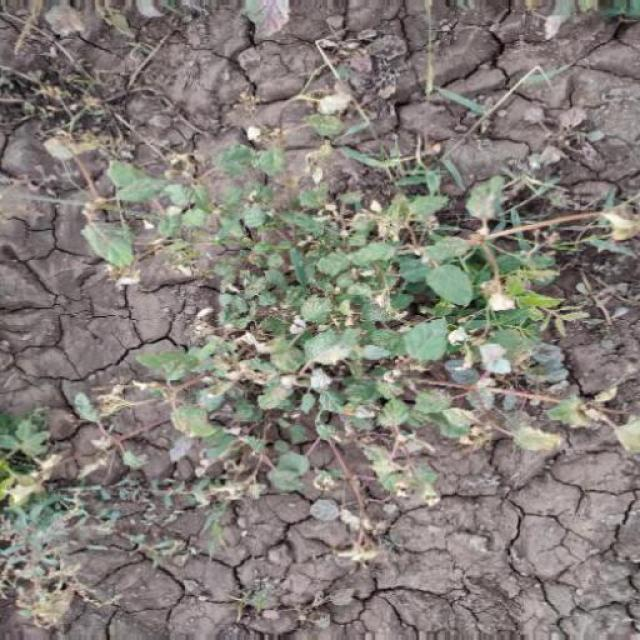weed: (179, 196, 636, 522)
